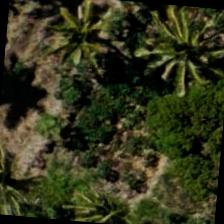Kelapa_Sawit: (27, 0, 125, 82), (141, 3, 223, 96), (80, 163, 176, 223), (0, 140, 47, 219)
